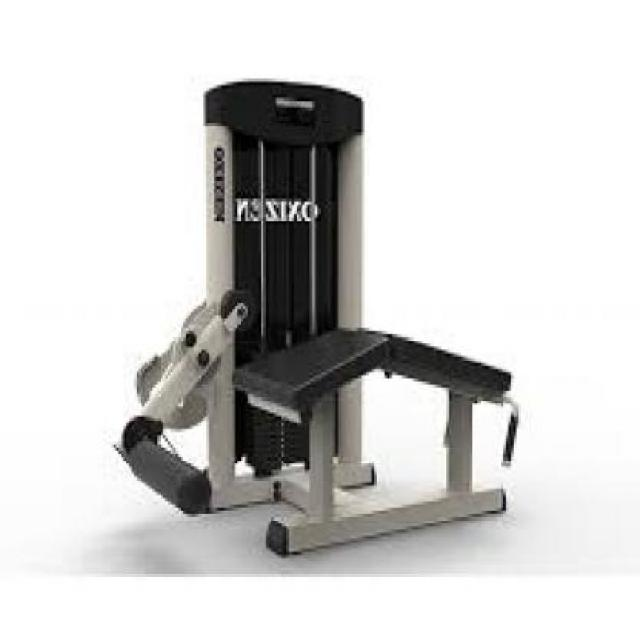reg curl machine: (112, 68, 522, 558)
